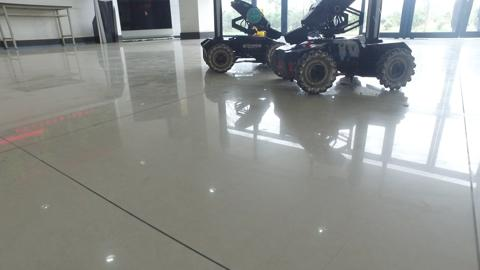chariot: (267, 1, 420, 95), (198, 2, 294, 76)
